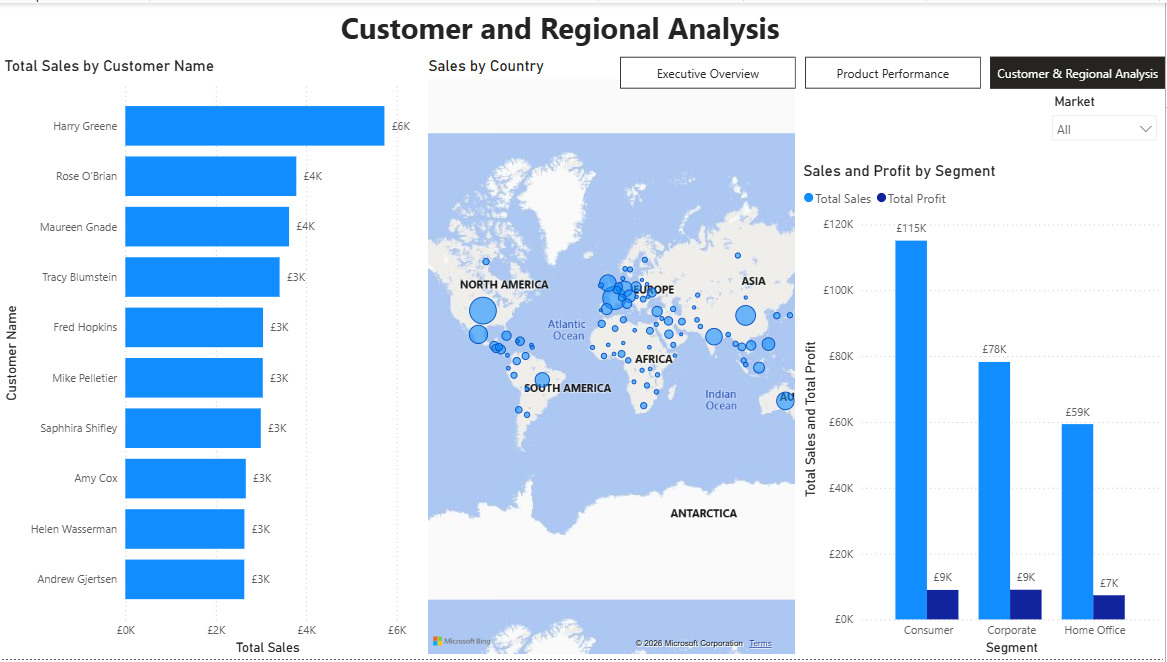

Layout of this report page (visuals, bound fields, positions):
{"tool":"powerbi","page":{"name":"Customer & Regional Analysis","canvas":[1280,720],"ordinal":2},"visuals":[{"type":"textbox","box":[369.1,0,507.7,59],"z":0},{"type":"clusteredBarChart","fields":{"Category":["Dim Customer.Customer Name"],"Y":["_Measures.Total Sales"]},"box":[0,59,465.2,661.4],"z":1000},{"type":"map","title":"Sales by Country","fields":{"Category":["Dim Geography.Country"],"Size":["_Measures.Total Sales"]},"box":[465,59,412,661],"z":2000},{"type":"clusteredColumnChart","title":"Sales and Profit by Segment","fields":{"Category":["Dim Customer.Segment"],"Y":["_Measures.Total Sales","_Measures.Total Profit"]},"box":[876.8,174.3,403.4,546.1],"z":3000},{"type":"slicer","fields":{"Values":["Dim Geography.Market"]},"box":[1144.4,94.7,135.8,64.5],"z":4000},{"type":"pageNavigator","box":[680.6,59,599.7,35.7],"z":5000}]}

Visuals, with their boxes in screenshot pixels (x1, y1, x2, y2), scaled from the page's 1280x720 canvas onto the 1167x662 screenshot:
textbox: Rect(337, 0, 799, 54)
clusteredBarChart - Dim Customer.Customer Name x _Measures.Total Sales: Rect(0, 54, 424, 661)
"Sales by Country" map: Rect(424, 54, 800, 661)
"Sales and Profit by Segment" clusteredColumnChart: Rect(799, 160, 1166, 661)
slicer - Dim Geography.Market: Rect(1043, 87, 1166, 146)
pageNavigator: Rect(621, 54, 1166, 87)
